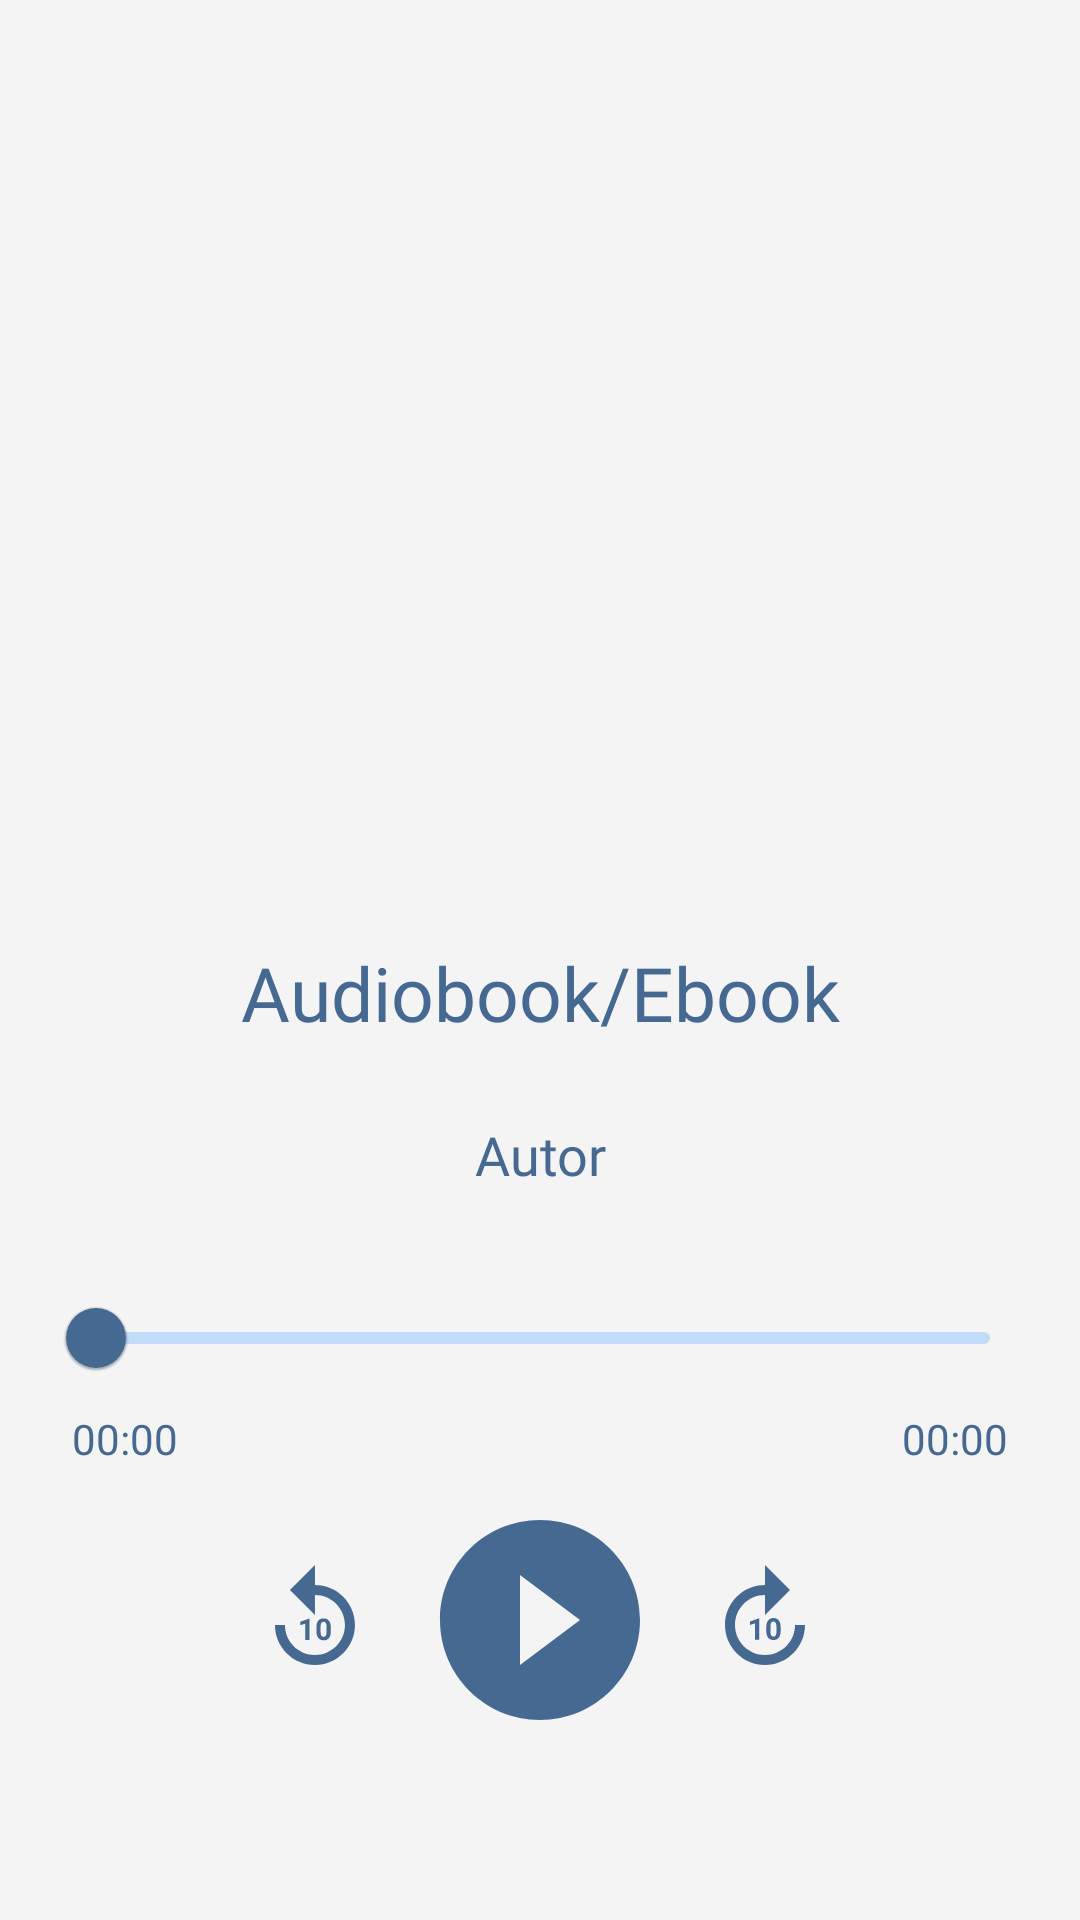

Where to tap for icons on this 1080×1920 app screen, as (x,y):
forward: (765,1615)
play circle: (540,1620)
replay: (315,1615)
